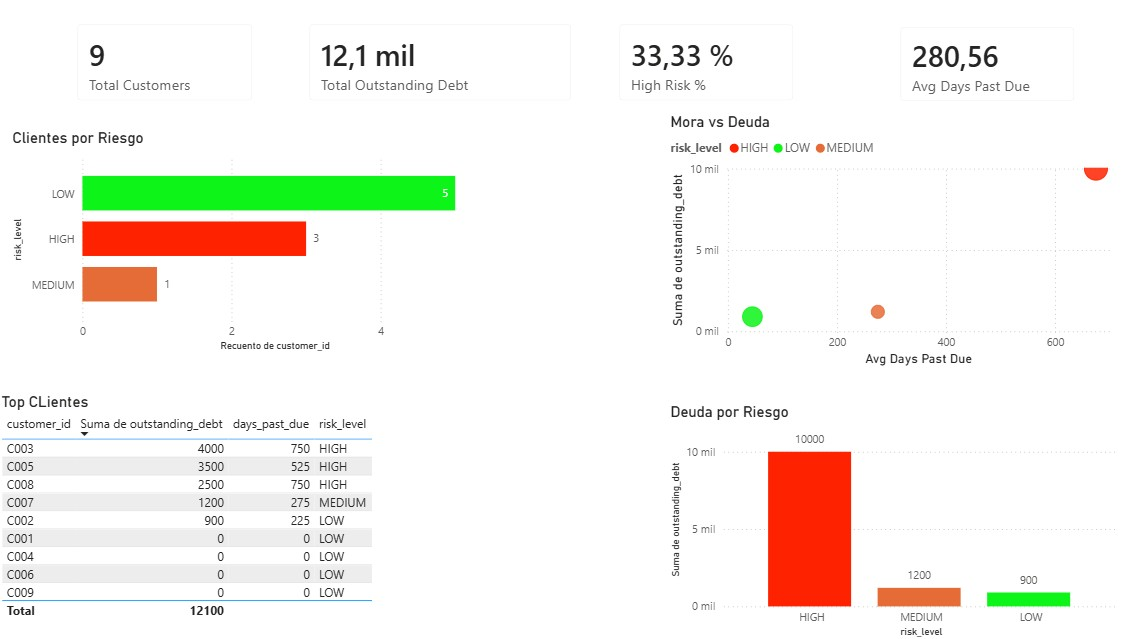

The page's visual inventory and layout, read from the dashboard file:
{"tool":"powerbi","page":{"name":"Página 1","canvas":[1280,720],"ordinal":0},"visuals":[{"type":"cardVisual","fields":{"Data":["credit_risk_summary.Total Customers"]},"box":[72.9,15.2,229.7,119.7],"z":0},{"type":"cardVisual","fields":{"Data":["credit_risk_summary.Total Outstanding Debt"]},"box":[330.9,15.2,326.5,119.7],"z":1},{"type":"cardVisual","fields":{"Data":["credit_risk_summary.High Risk %"]},"box":[677,15.2,228.6,119.7],"z":2},{"type":"cardVisual","fields":{"Data":["credit_risk_summary.Avg Days Past Due"]},"box":[990.5,18.5,228.6,116.5],"z":3},{"type":"barChart","title":"Clientes por Riesgo","fields":{"Category":["credit_risk_summary.risk_level"],"Y":["CountNonNull(credit_risk_summary.customer_id)"]},"box":[12,148.9,521.6,252.8],"z":4},{"type":"columnChart","title":"Deuda por Riesgo","fields":{"Category":["credit_risk_summary.risk_level"],"Y":["Sum(credit_risk_summary.outstanding_debt)"]},"box":[745.4,454.6,509.6,265.8],"z":5},{"type":"tableEx","title":"Top CLientes","fields":{"Values":["credit_risk_summary.customer_id","Sum(credit_risk_summary.outstanding_debt)","credit_risk_summary.days_past_due","credit_risk_summary.risk_level"]},"box":[0,443.7,505.6,276.8],"z":6},{"type":"scatterChart","title":"Mora vs Deuda","fields":{"Series":["credit_risk_summary.risk_level"],"Size":["Sum(credit_risk_summary.total_amount)"],"X":["credit_risk_summary.Avg Days Past Due"],"Y":["Sum(credit_risk_summary.outstanding_debt)"]},"box":[745.4,131.9,509.6,286.8],"z":7}]}

Visuals, with their boxes in screenshot pixels (x1, y1, x2, y2), scaled from the page's 1280x720 canvas onto the 1129x639 screenshot:
cardVisual - credit_risk_summary.Total Customers: left=64, top=13, right=267, bottom=120
cardVisual - credit_risk_summary.Total Outstanding Debt: left=292, top=13, right=580, bottom=120
cardVisual - credit_risk_summary.High Risk %: left=597, top=13, right=799, bottom=120
cardVisual - credit_risk_summary.Avg Days Past Due: left=874, top=16, right=1075, bottom=120
"Clientes por Riesgo" barChart: left=11, top=132, right=471, bottom=357
"Deuda por Riesgo" columnChart: left=657, top=403, right=1107, bottom=638
"Top CLientes" tableEx: left=0, top=394, right=446, bottom=638
"Mora vs Deuda" scatterChart: left=657, top=117, right=1107, bottom=372
